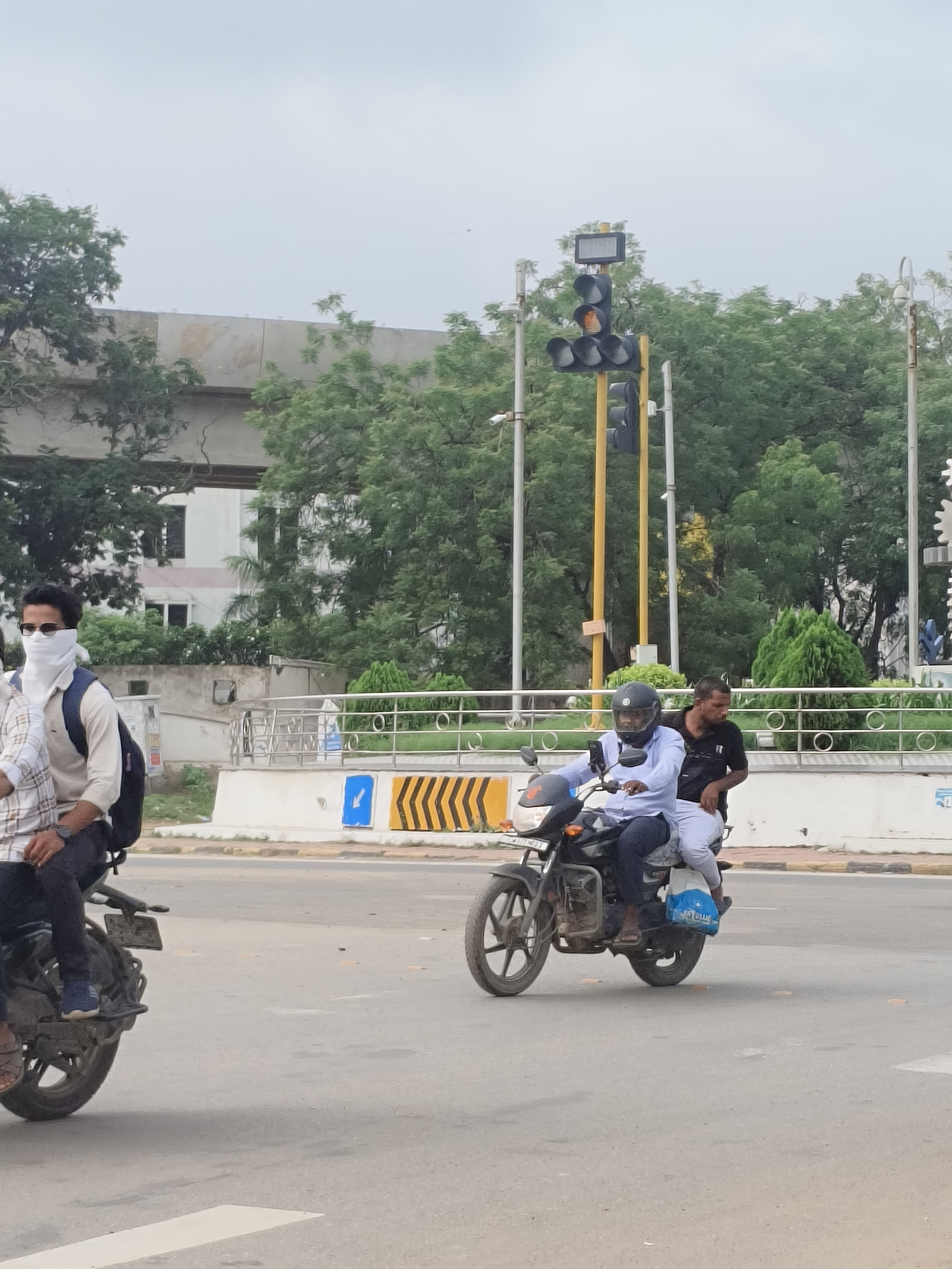BikeWithRider: (452, 671, 759, 1005), (1, 573, 179, 1134)
Helmet: (601, 676, 670, 743)
NoHelmet: (8, 578, 93, 680), (683, 675, 738, 730)
